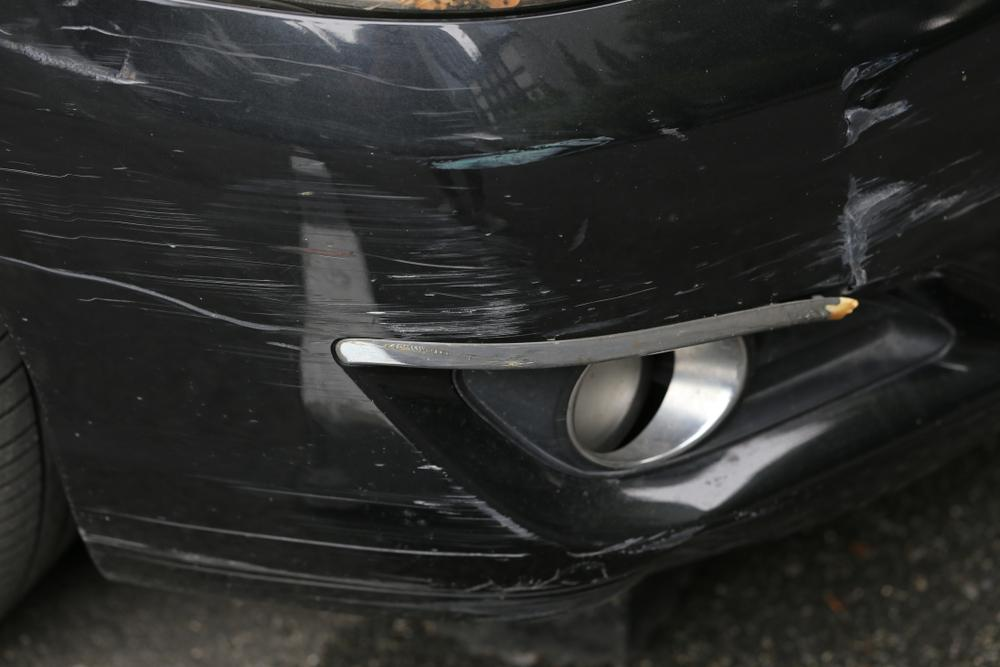scratch: (0, 6, 1000, 626)
